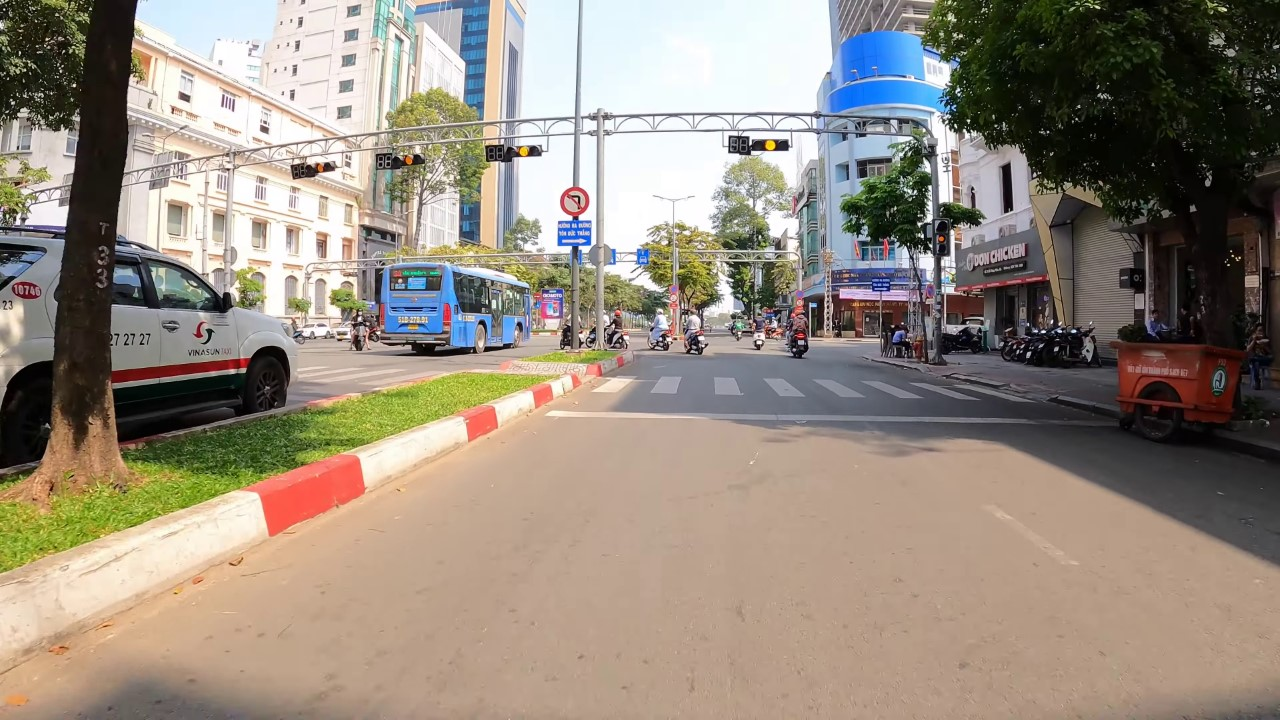cam_re_trai: (554, 181, 595, 220)
